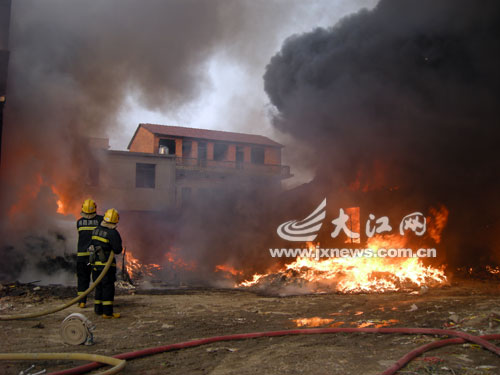fire: (281, 215, 451, 290)
smoke: (279, 5, 499, 191)
